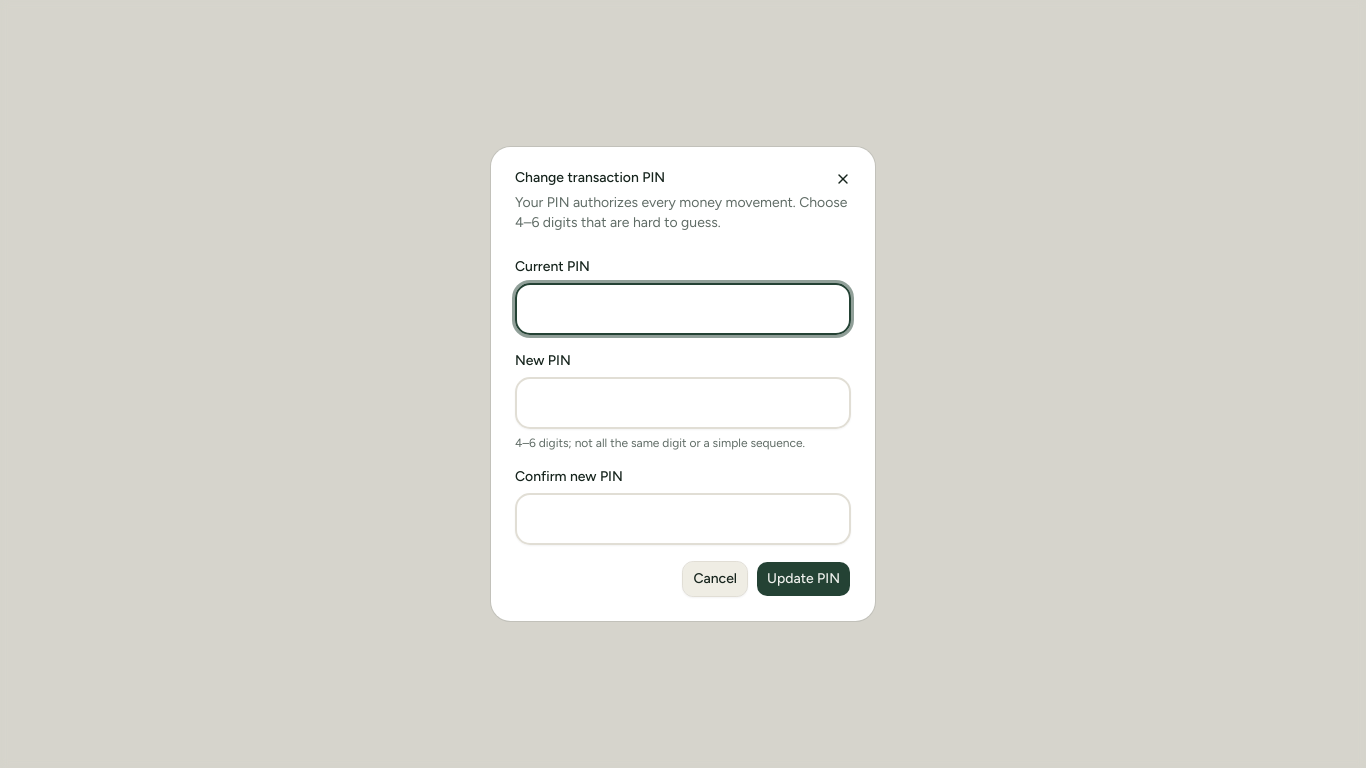
Test: ChangePinDialog › rejects a mismatched confirmation client-side
The width and height of the screenshot is (1366, 768).
In the password field labelled "Current PIN": (683, 309) [515,283,851,335], type "1234"
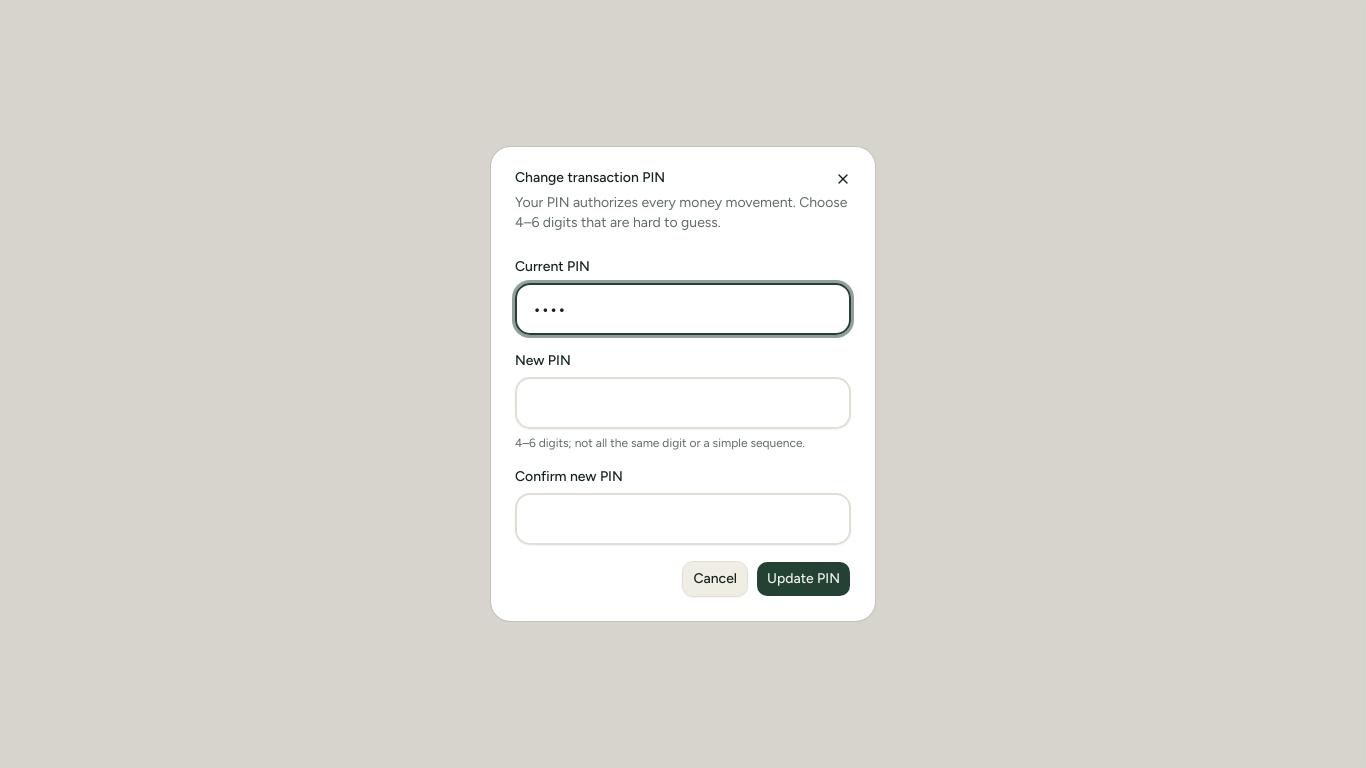
In the password field labelled "New PIN": (683, 403) [515,377,851,429], type "2468"
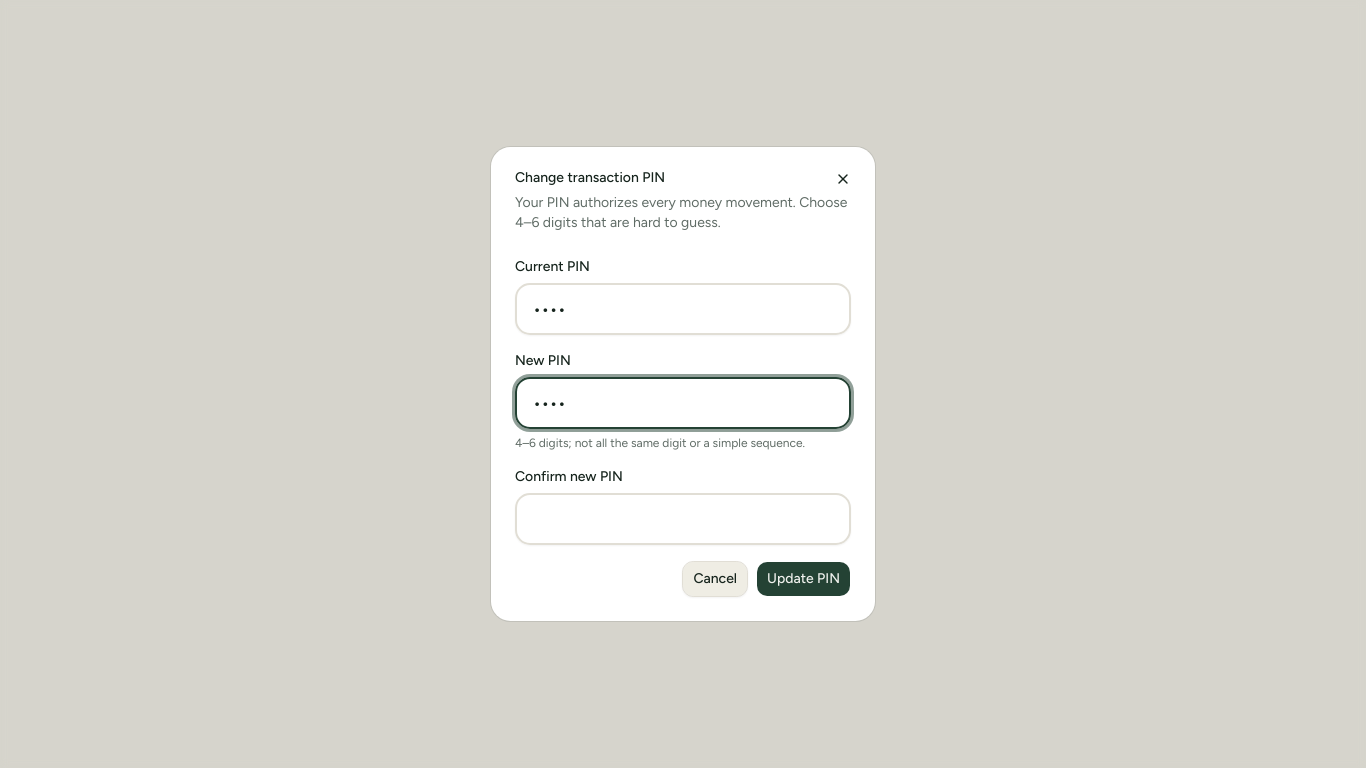
In the password field labelled "Confirm new PIN": (683, 519) [515,493,851,545], type "2469"
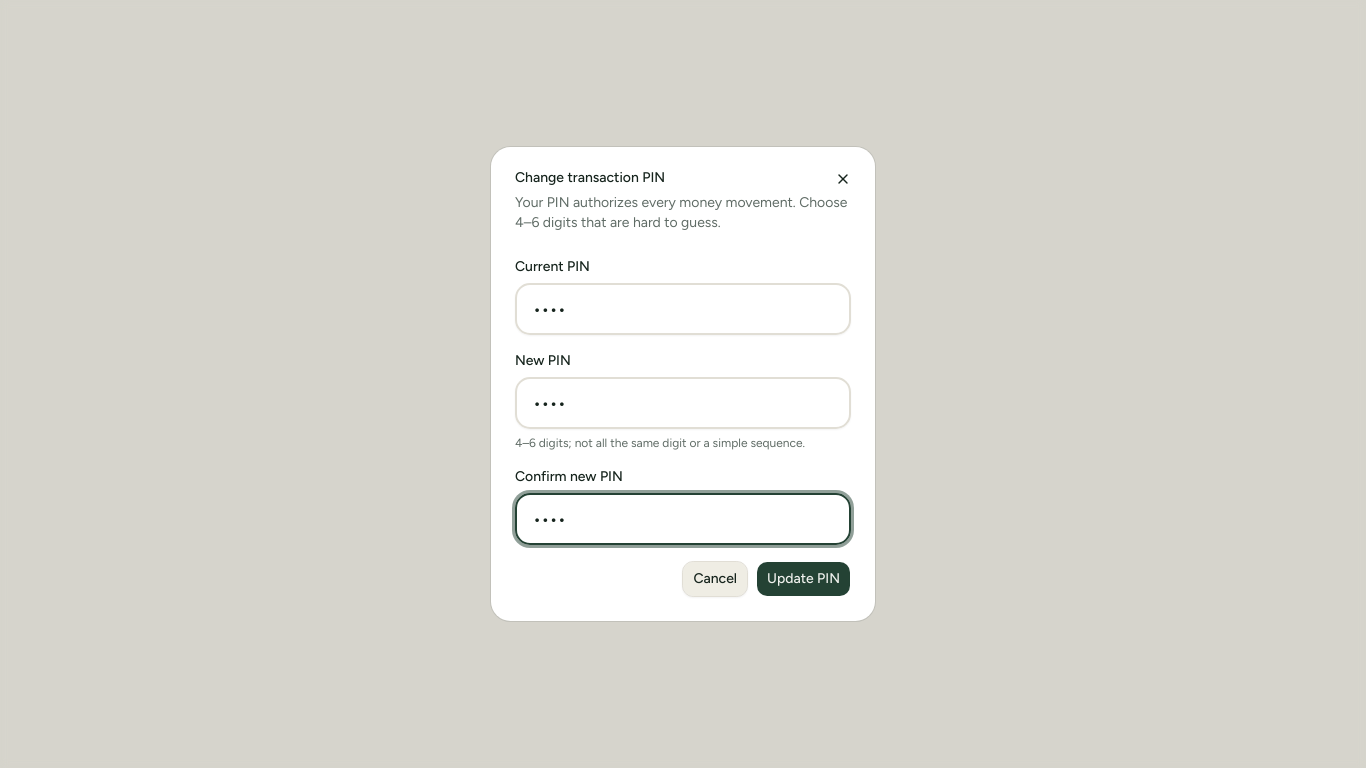
Click the button "Update PIN": (804, 579) [756,561,851,597]
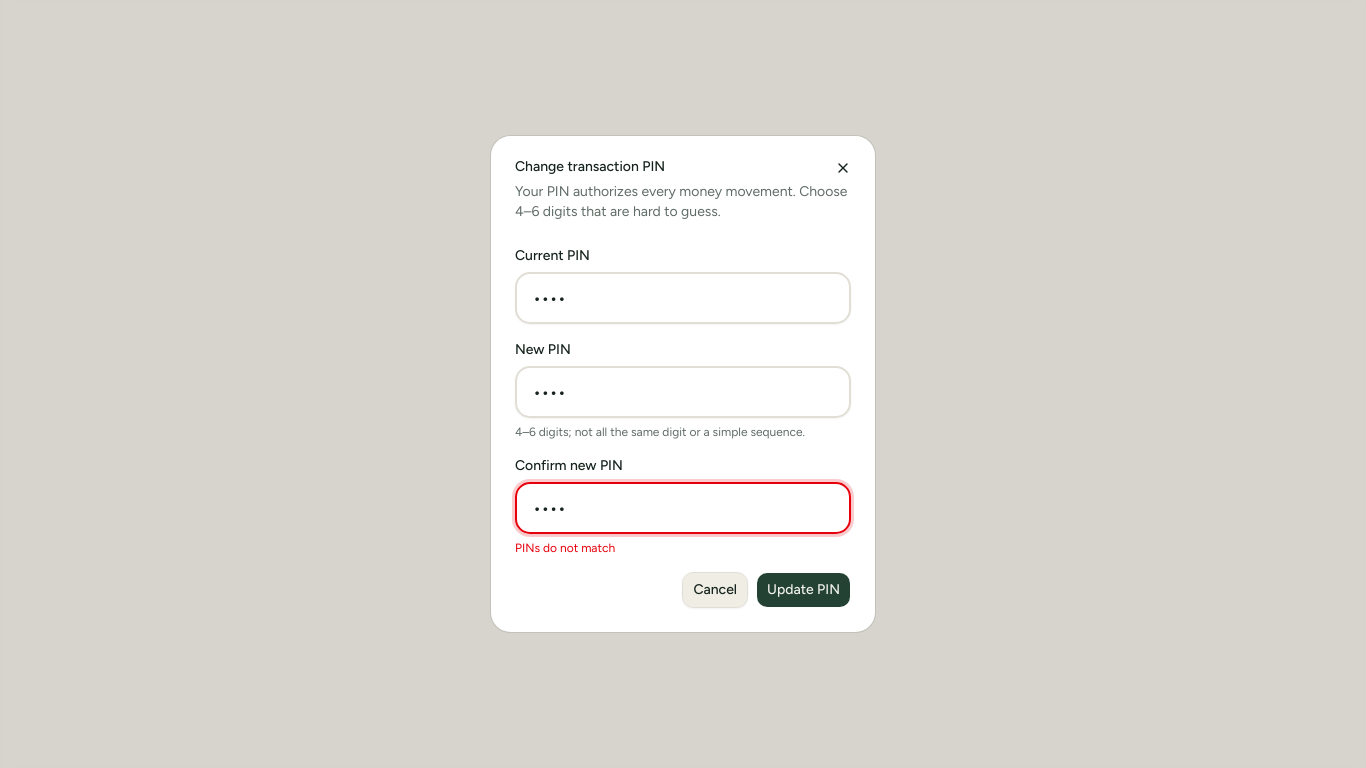
Check: the text "PINs do not match" is shown, box [515,541,615,555]
